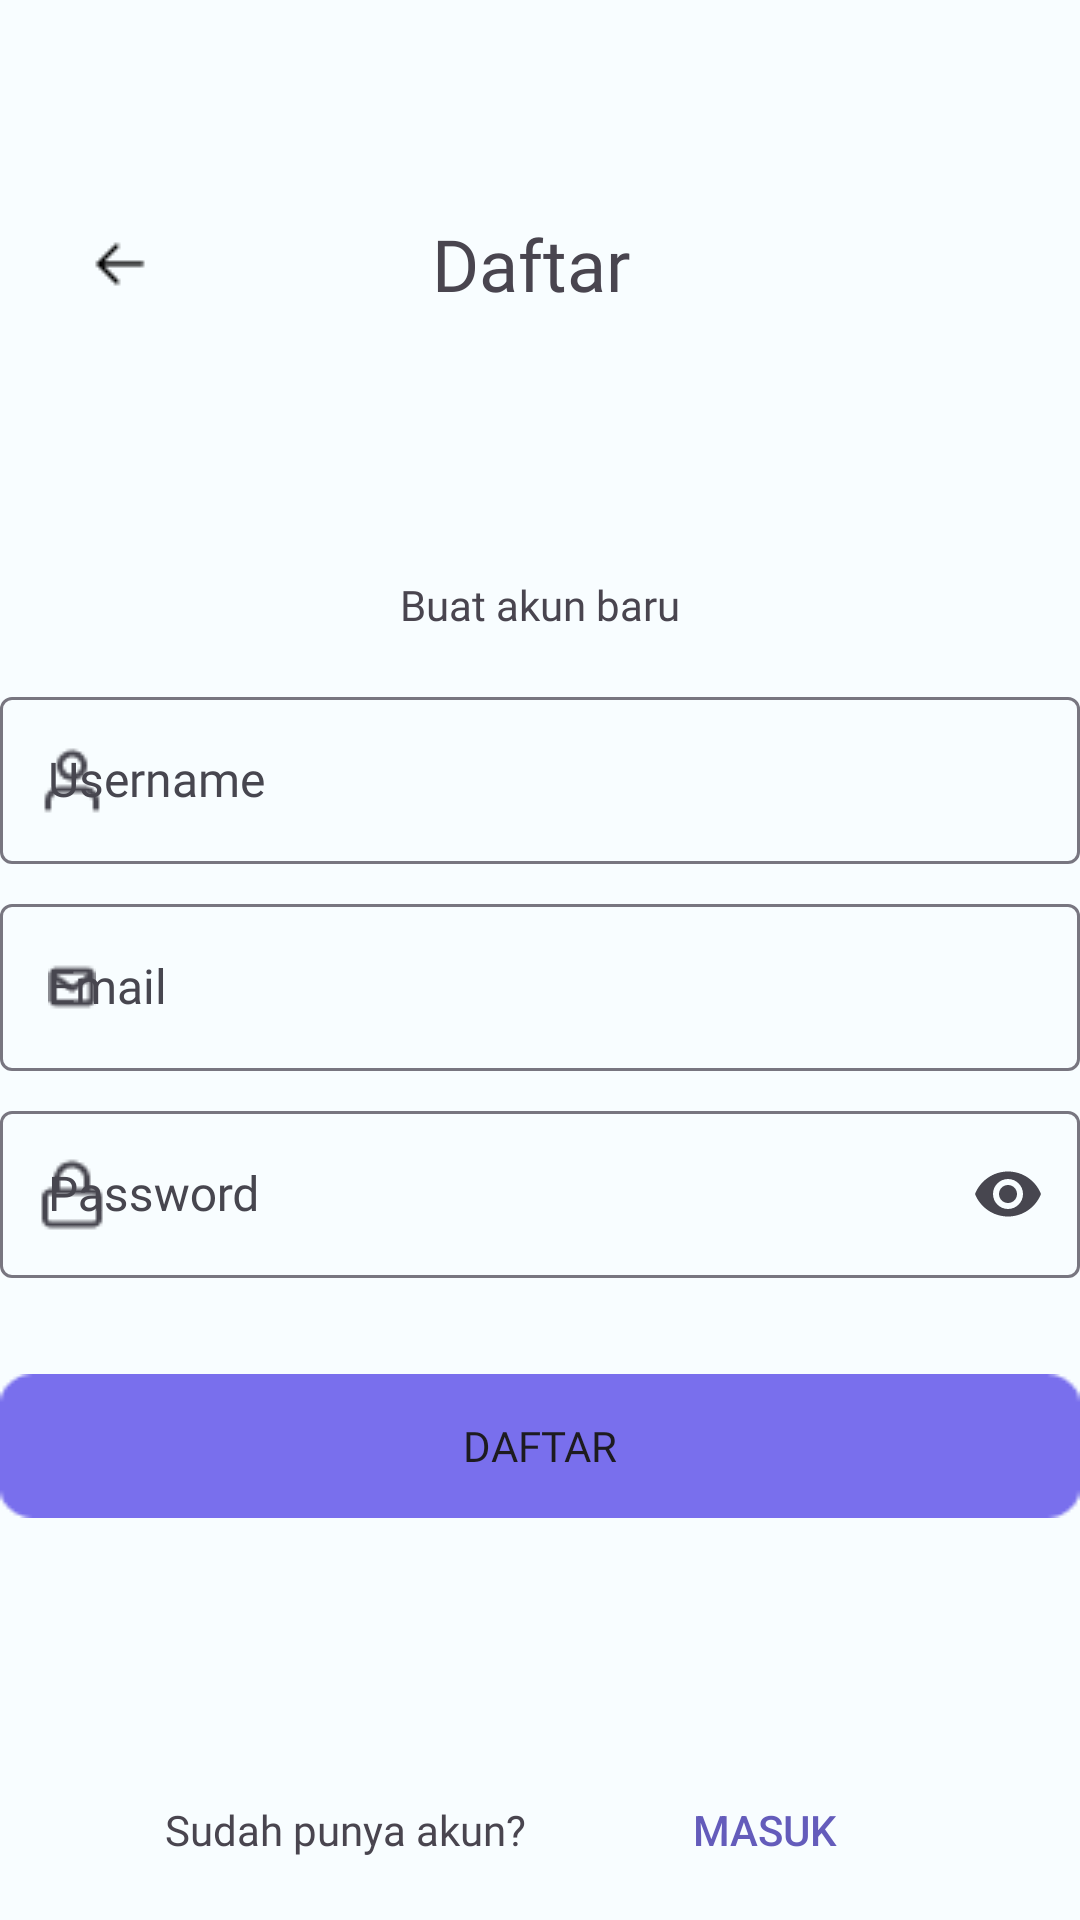

Icon bounding boxes for this 1080*1920 phone screenshot, format (x1, y1, x2, y2):
left arrow: (95, 242, 145, 286)
